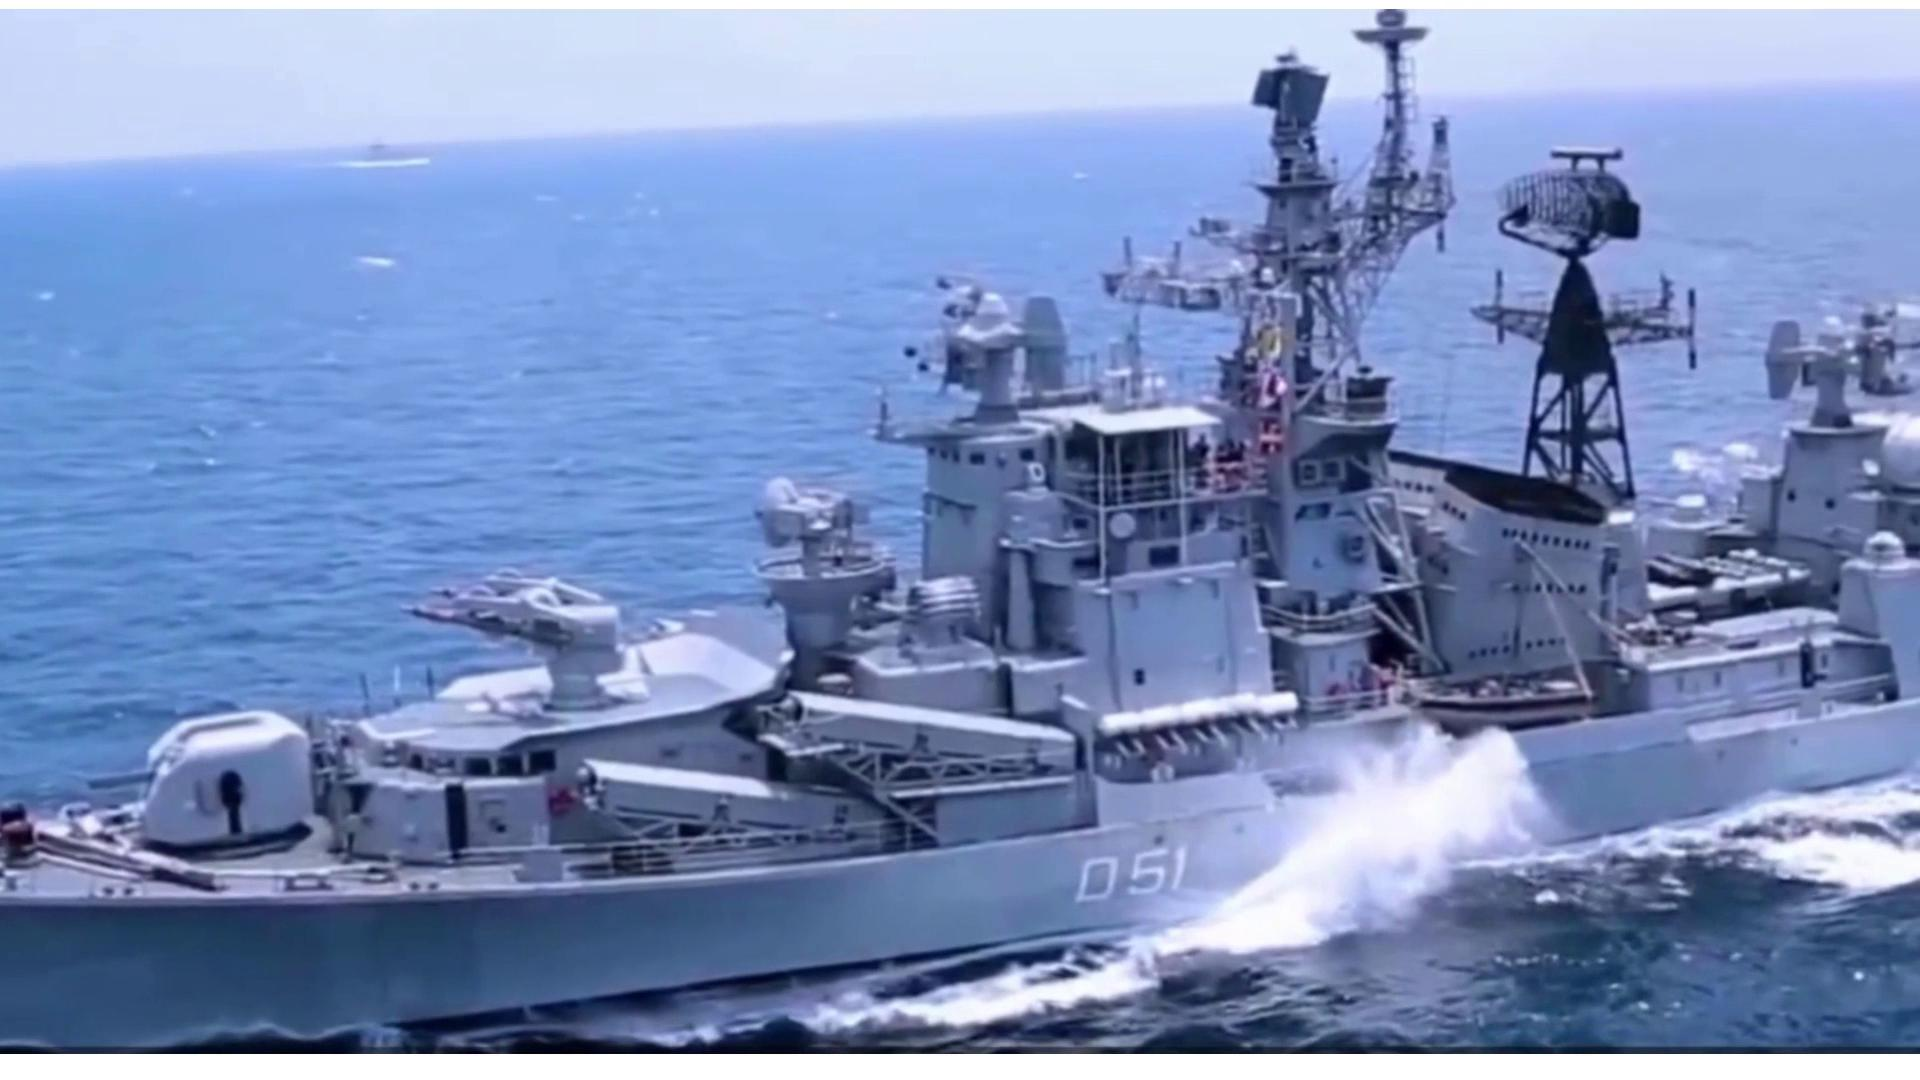OCR: (1054, 832, 1194, 918)
